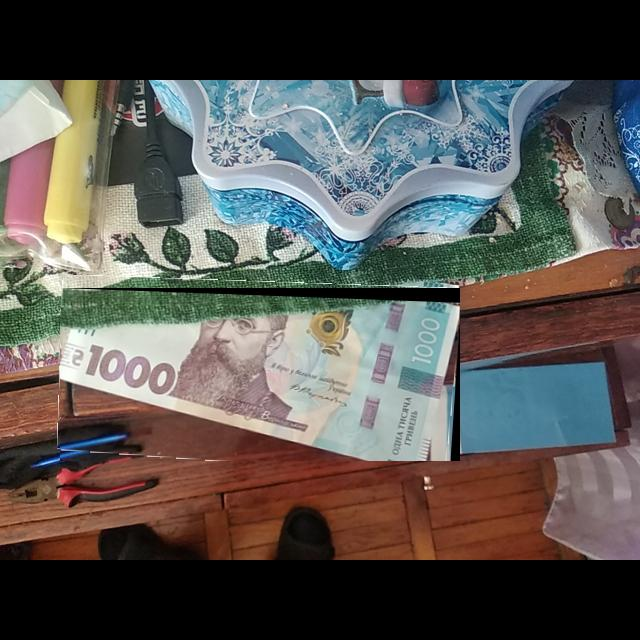1000uah: (60, 299, 461, 462)
